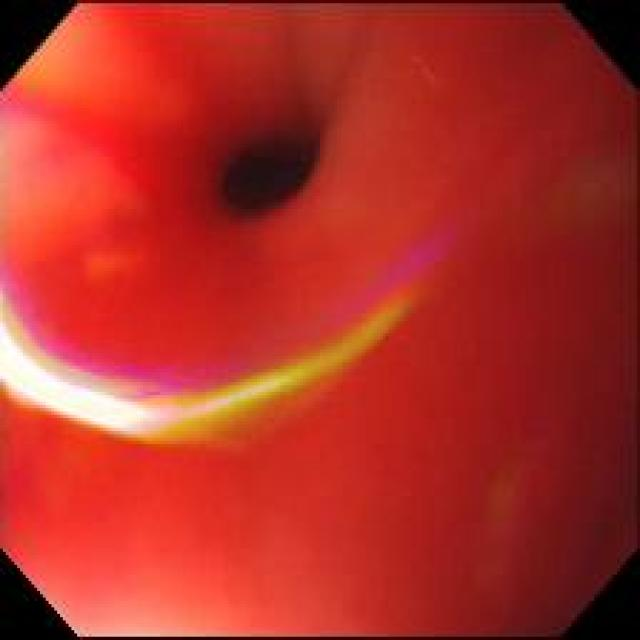blur: (1, 3, 637, 636)
color misalignment: (193, 331, 371, 424), (346, 245, 459, 348), (1, 268, 69, 368), (72, 367, 193, 399), (130, 421, 241, 446)
contrast: (202, 89, 339, 233)
specularity: (2, 330, 130, 435)
